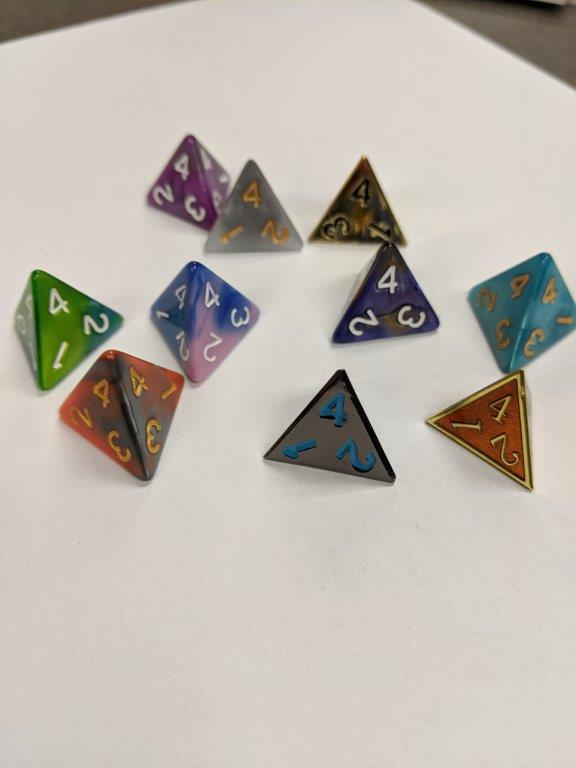d4-4: (52, 349, 186, 484), (257, 363, 397, 483), (464, 245, 576, 382), (150, 260, 261, 386), (422, 369, 533, 494), (11, 266, 118, 384), (328, 240, 445, 344), (199, 152, 305, 253), (309, 153, 411, 245), (143, 134, 229, 231)
